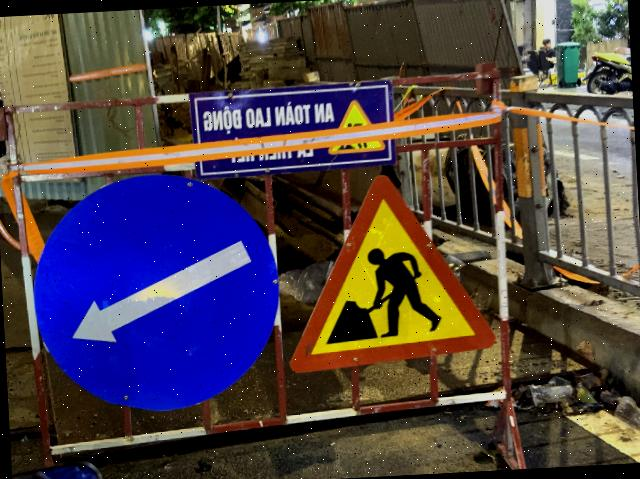cong-truong-dang-thi-cong: (280, 170, 497, 374)
huong-phai-di-vong-chuong-ngai-vat: (27, 167, 285, 419)
